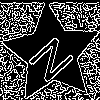N: (26, 28, 84, 86)
